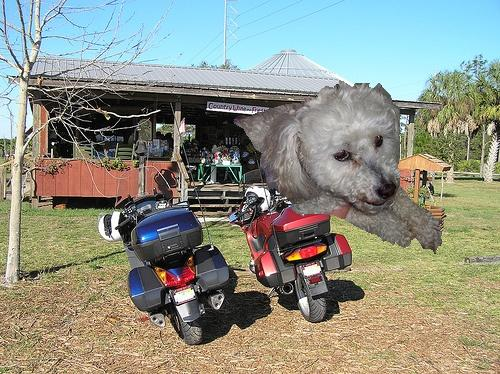tampered: (234, 81, 442, 254)
